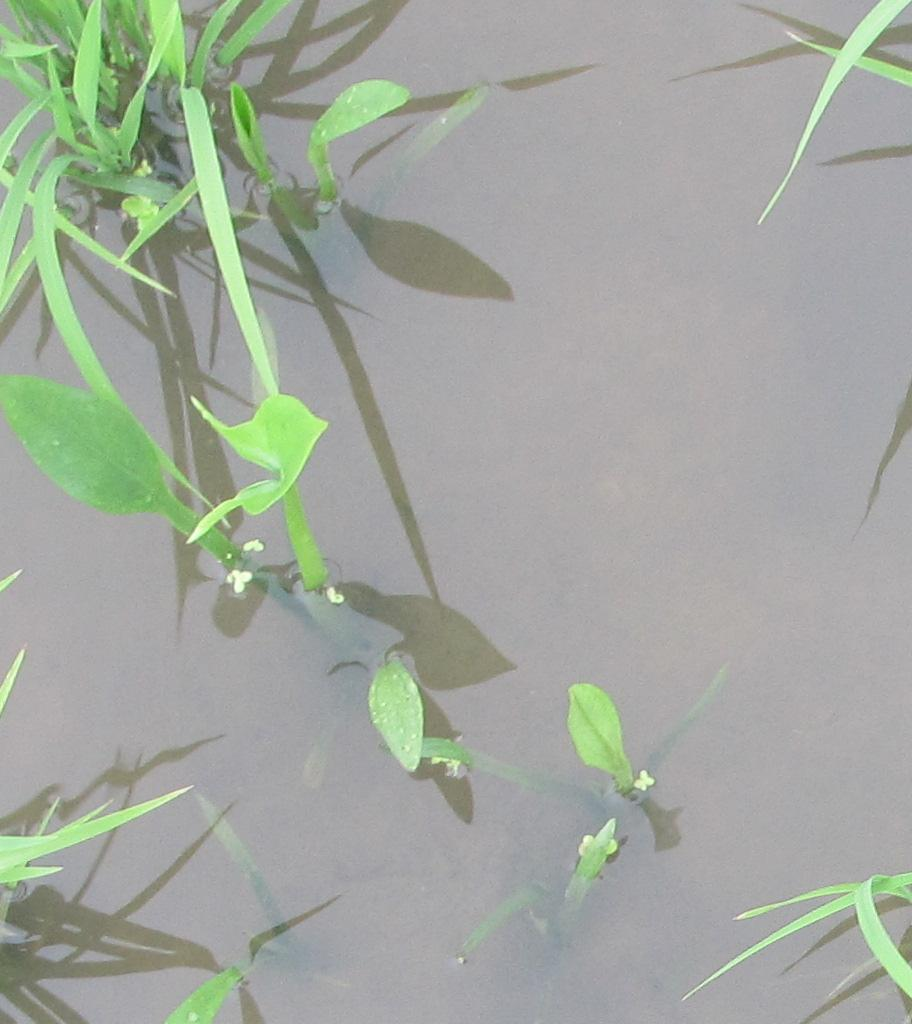Weed: (8, 375, 332, 611), (361, 639, 700, 857)
